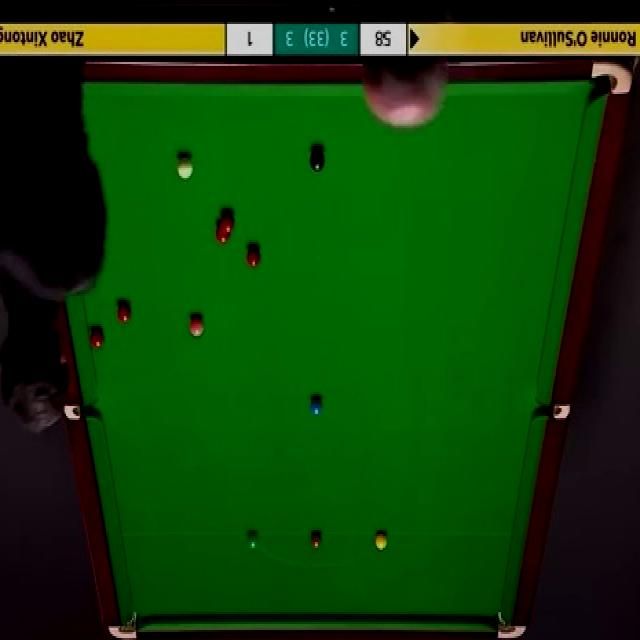pocket: (590, 58, 633, 100), (108, 608, 140, 640), (497, 612, 527, 640), (534, 403, 576, 423), (66, 405, 100, 420)
